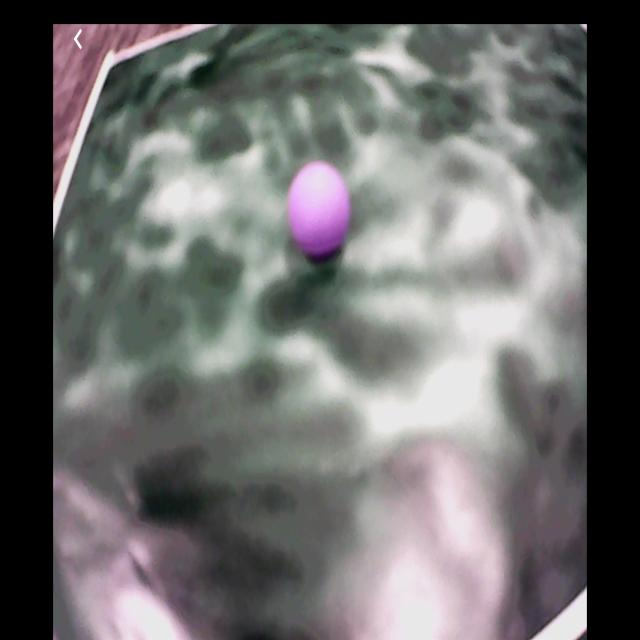ball: (288, 162, 351, 258)
